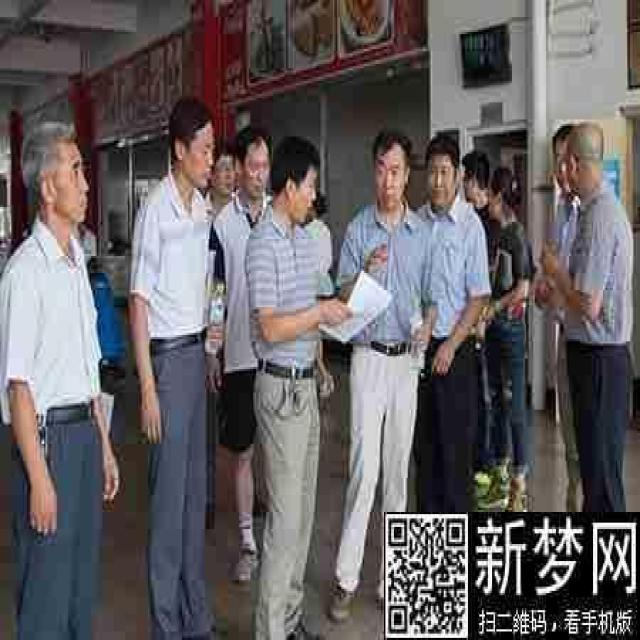no-helmet: (24, 107, 90, 230), (165, 87, 218, 192), (270, 128, 323, 224), (368, 120, 417, 211), (565, 115, 613, 207), (420, 128, 462, 211), (550, 115, 590, 201), (234, 119, 272, 205), (459, 145, 491, 216), (492, 162, 516, 226)
